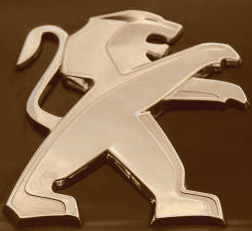Peugeot: (5, 7, 248, 225)
